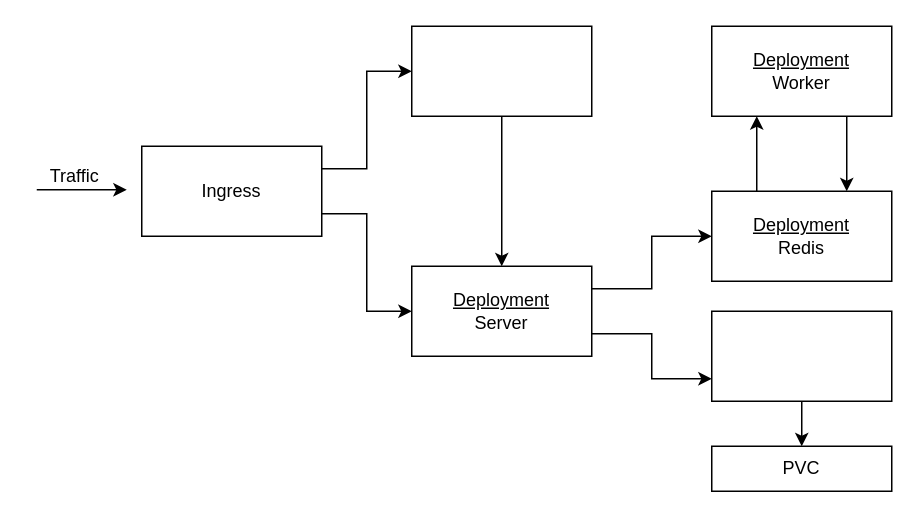
This 918x518 diagram has some shape labels left out. Here are the shapes that lost their labels. From the top down, the centre of each, then its label:
At point 501,70: "Deployment Client".
At point 801,355: "Deployment Postgres".
